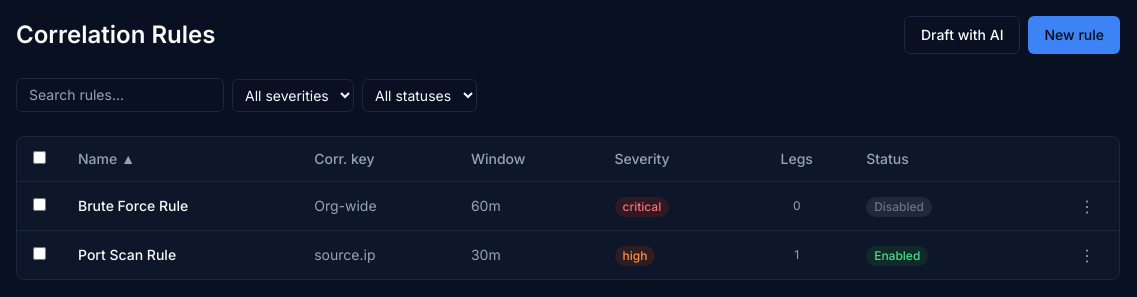
Test case: CorrelationRulesAdmin › filters by severity
The image size is (1137, 297).
Expected: the text "Port Scan Rule" is shown, [62,230,298,279]
Select "Critical" in the dropdown named "Severity filter" at (293, 95), box [232,78,354,112]
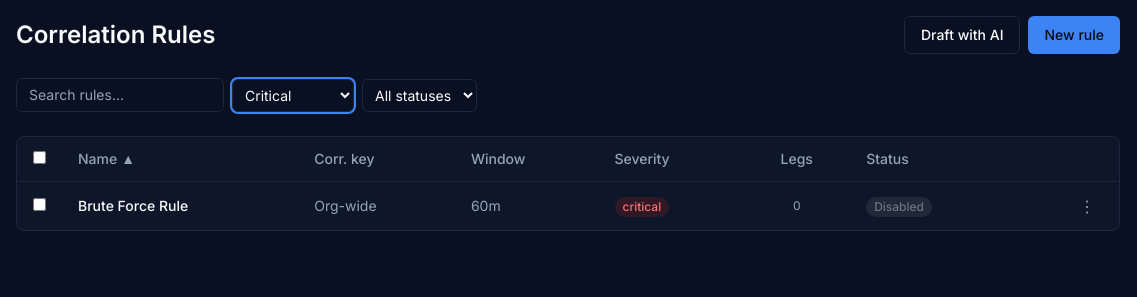
Expected: the text "Brute Force Rule" is shown, [62,182,298,230]
Expected: the text "Port Scan Rule" is gone
